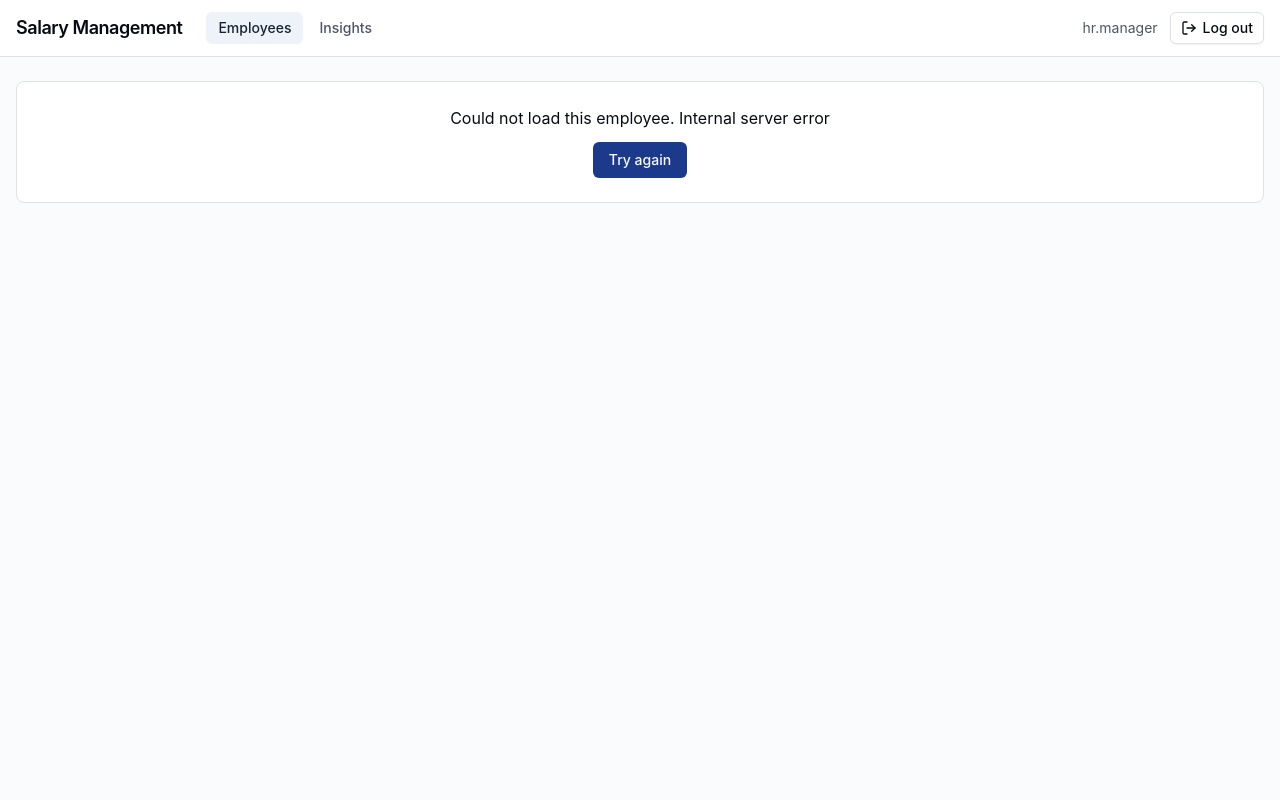
it: employee detail page › explains a failure and can try again
Expected: the message shows "Could not load this employee", [450,108,679,128]
Click the button "Try again" at (640, 160), box [593,142,687,178]
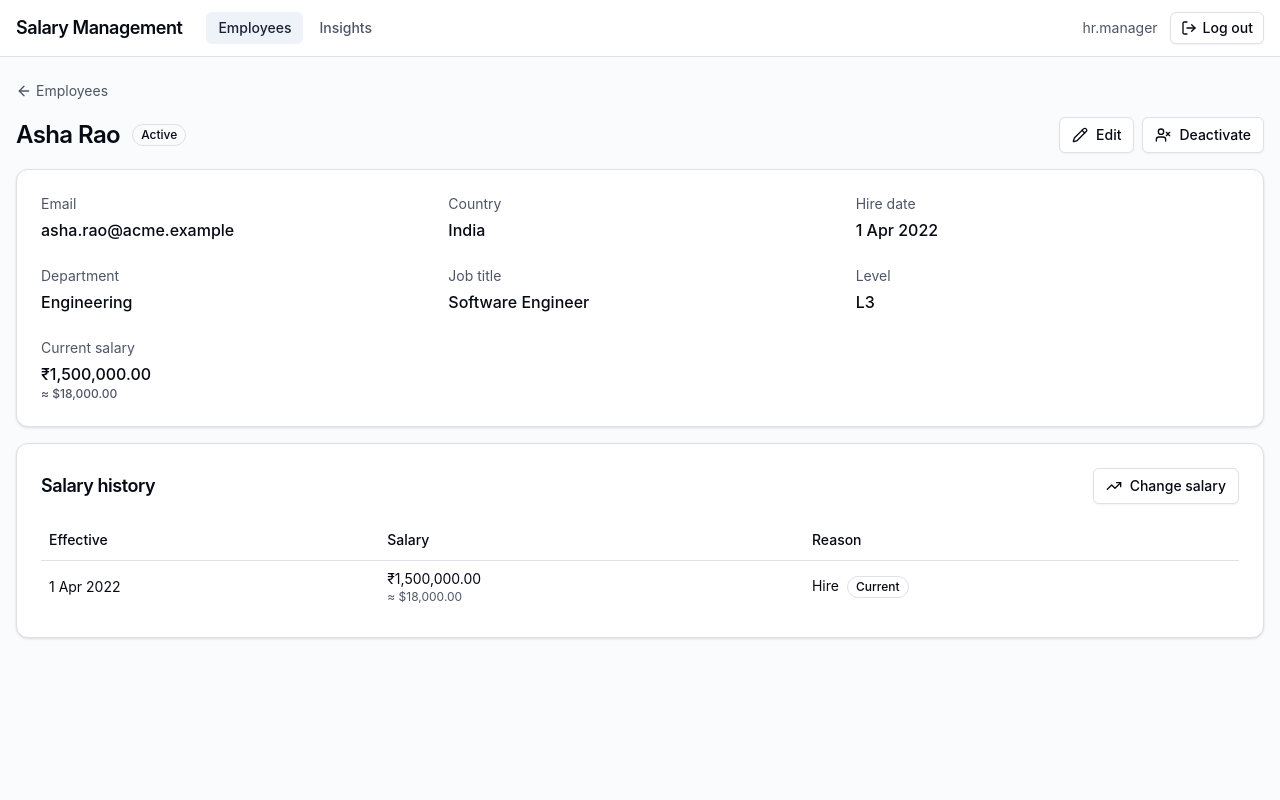
Expected: the heading "Asha Rao" is shown, [16,119,120,151]
